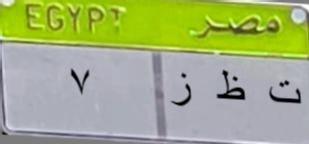7: (66, 66, 94, 99)
Thaa: (212, 67, 248, 108)
taa: (266, 76, 303, 112)
zay: (166, 68, 195, 112)
